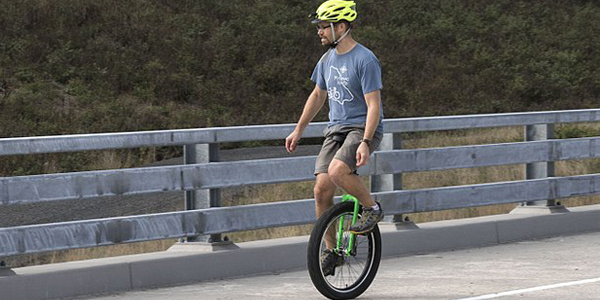uni cycle: (301, 129, 384, 300)
